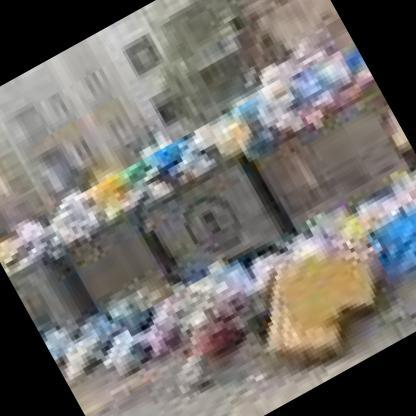Garbage: (8, 44, 370, 270), (152, 308, 260, 410), (127, 260, 240, 350), (27, 182, 140, 250), (57, 311, 126, 372), (266, 218, 338, 270), (372, 193, 415, 269), (104, 324, 160, 376), (310, 46, 364, 98), (119, 152, 175, 198), (259, 74, 307, 116), (16, 219, 62, 256), (0, 224, 37, 267), (52, 193, 93, 231), (208, 108, 245, 144), (226, 108, 262, 140)
